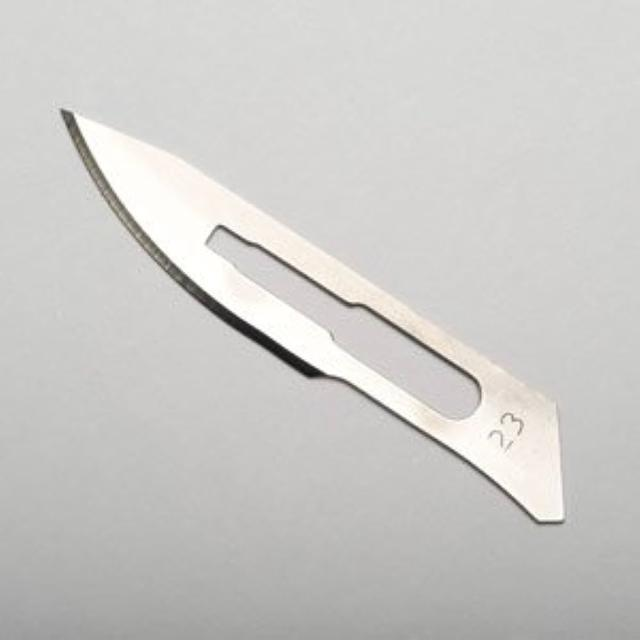Surgical blade: (48, 91, 577, 544)
